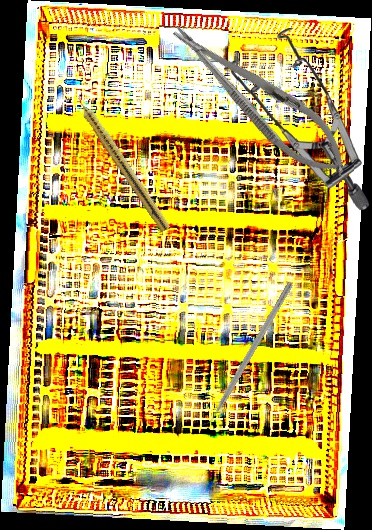Chopper: (195, 277, 294, 432)
Handpiece: (71, 91, 174, 233)
Needle Holder: (159, 8, 362, 191)
Speculum: (222, 26, 370, 213)
